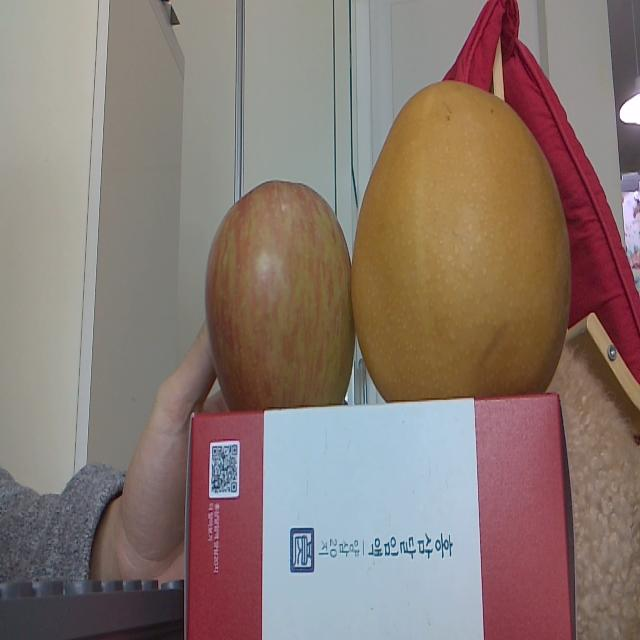apple: (204, 181, 353, 408)
pear: (353, 82, 573, 394)
